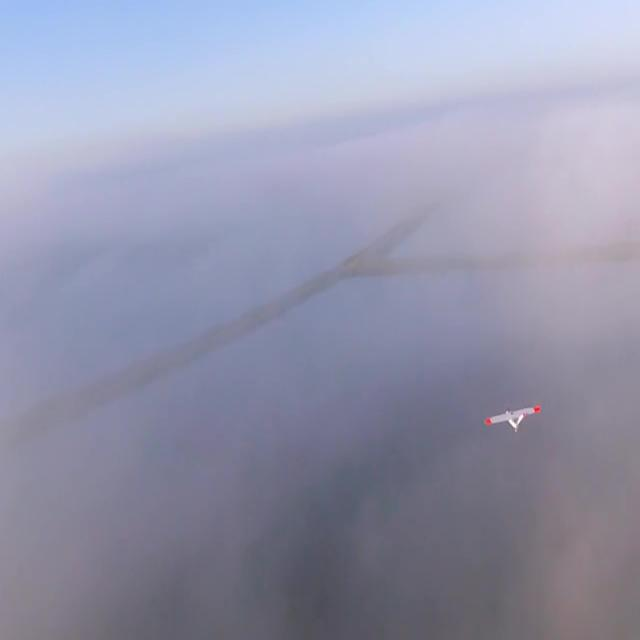iha: (483, 405, 541, 433)
